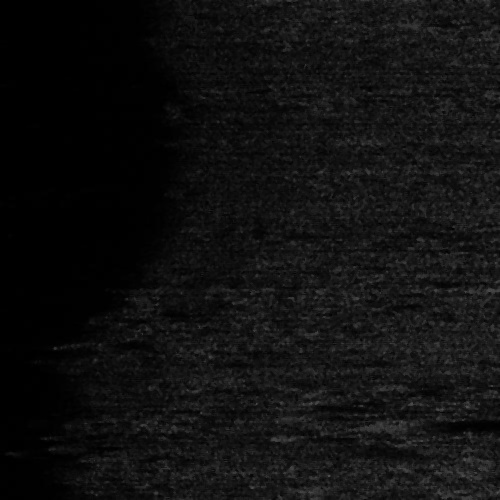object: (336, 415, 419, 428)
shadow: (378, 415, 500, 428)
